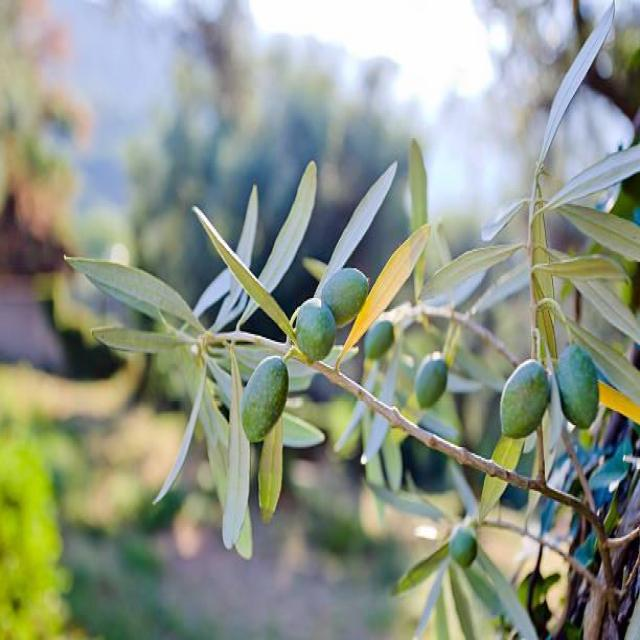Healthy: (243, 356, 290, 442), (501, 359, 551, 438), (556, 342, 598, 428), (318, 267, 370, 328), (291, 298, 336, 362), (414, 353, 448, 408)
